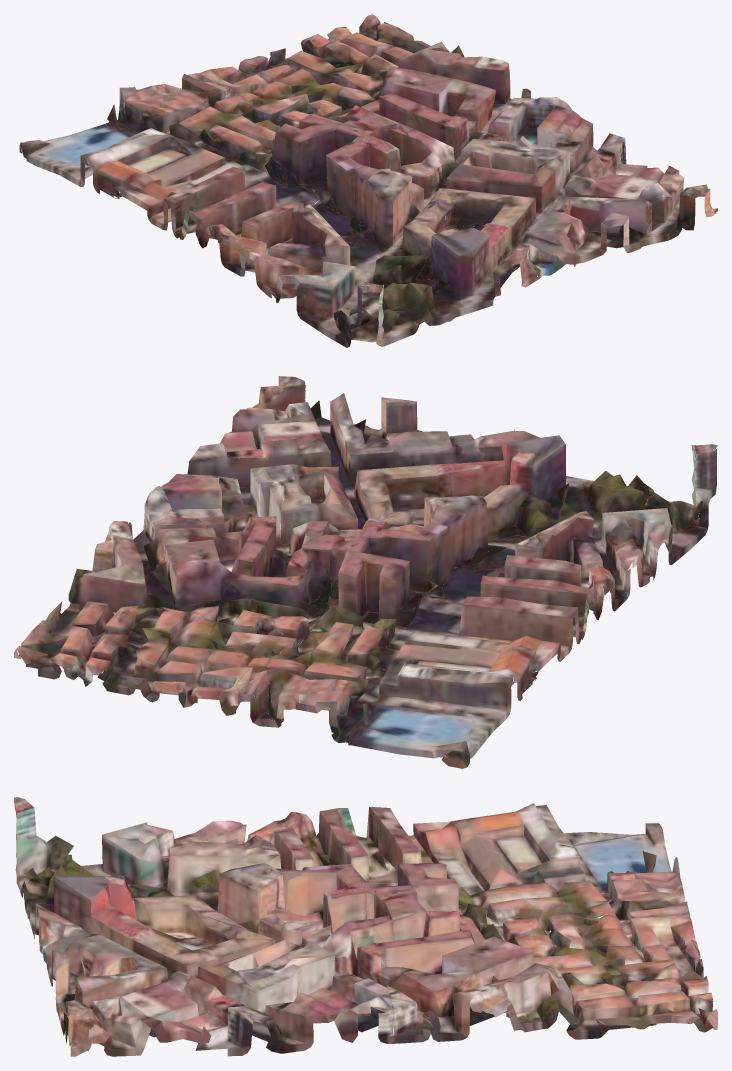
3 views of the same model, one above another, from view 1: azimuth 30°, elevation 25°; view 2: azimuth 150°, elevation 25°; view 3: azimuth 270°, elevation 25° (orthographic). The views are drawn at different scales.
Parts seen in each view (by area): view 1: Mesh_0; view 2: Mesh_0; view 3: Mesh_0.
Boxes of the visible parts, left/top/right/bottom form: Mesh_0: left=19, top=14, right=717, bottom=347; Mesh_0: left=14, top=376, right=717, bottom=768; Mesh_0: left=14, top=797, right=717, bottom=1056.
Size of the model in its own units: 270 by 41.04 by 330.
2 materials, 2 textured.
